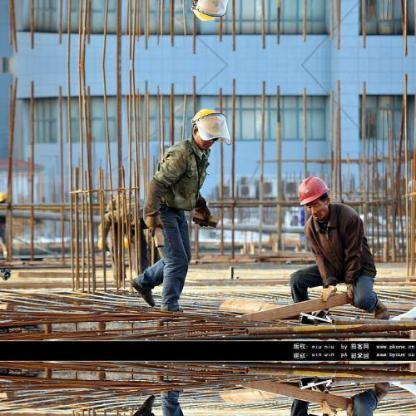helmet: (190, 106, 228, 144), (296, 175, 330, 206), (0, 191, 9, 204)
